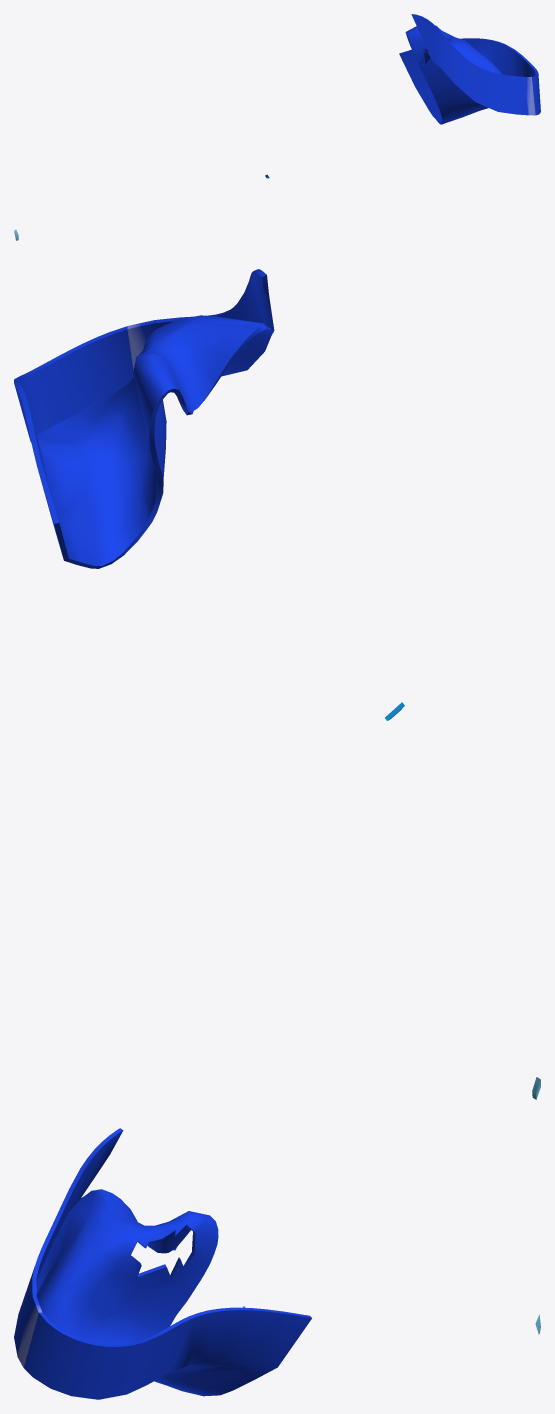
Rendered from s1_lh_underglow_foot.fbx.
The picture shows the model from 3 angles, top to bottom: view 1: azimuth 30°, elevation 25°; view 2: azimuth 150°, elevation 25°; view 3: azimuth 270°, elevation 25°; orthographic projection. The views are drawn at different scales.
Parts seen in each view (by area): view 1: s1_lh_underglow_foot; view 2: s1_lh_underglow_foot; view 3: s1_lh_underglow_foot.
Boxes of the visible parts, x1,y1,x2,y2 form: s1_lh_underglow_foot: [14, 14, 540, 240]; s1_lh_underglow_foot: [14, 269, 540, 1099]; s1_lh_underglow_foot: [14, 1128, 540, 1399].
Bounding box in the file's own units: 494 × 313 × 360.
